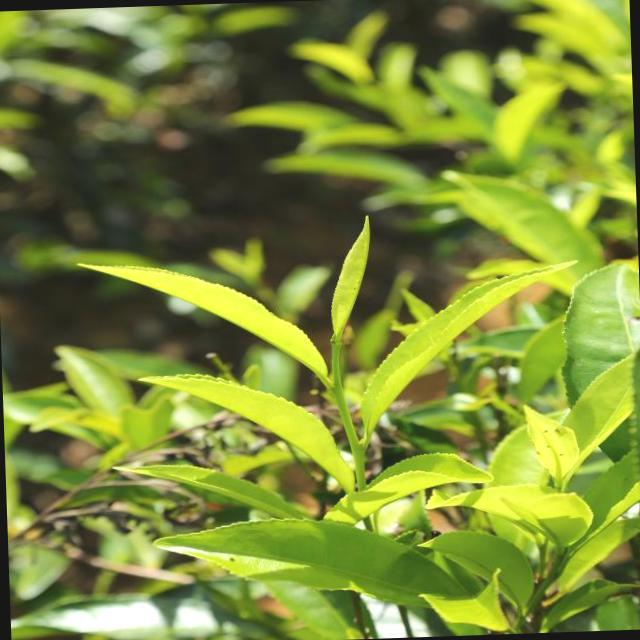Stem: (331, 385, 345, 401)
